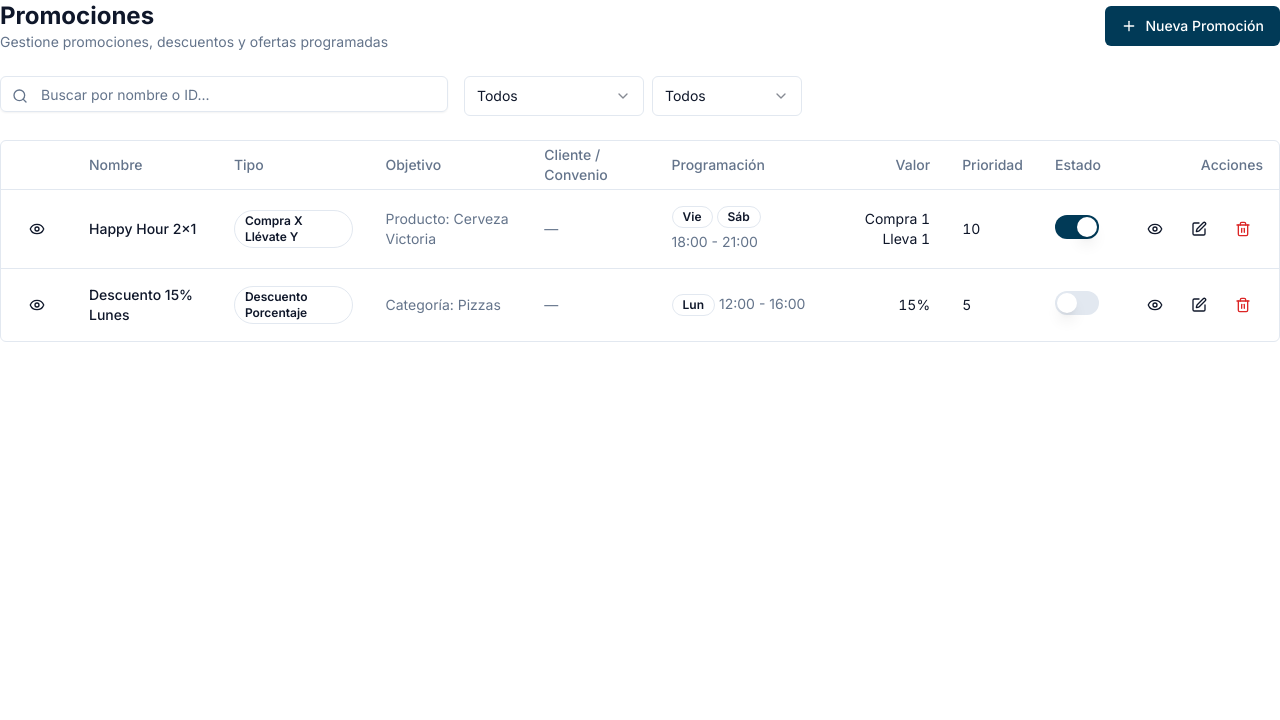
Scenario: PromotionsList › target product display (§17.6) › resolves the product name in the detail dialog too
Click the button named "Ver detalles" in the row of "Happy Hour 2x1": click(1155, 228) [1135,208,1175,248]
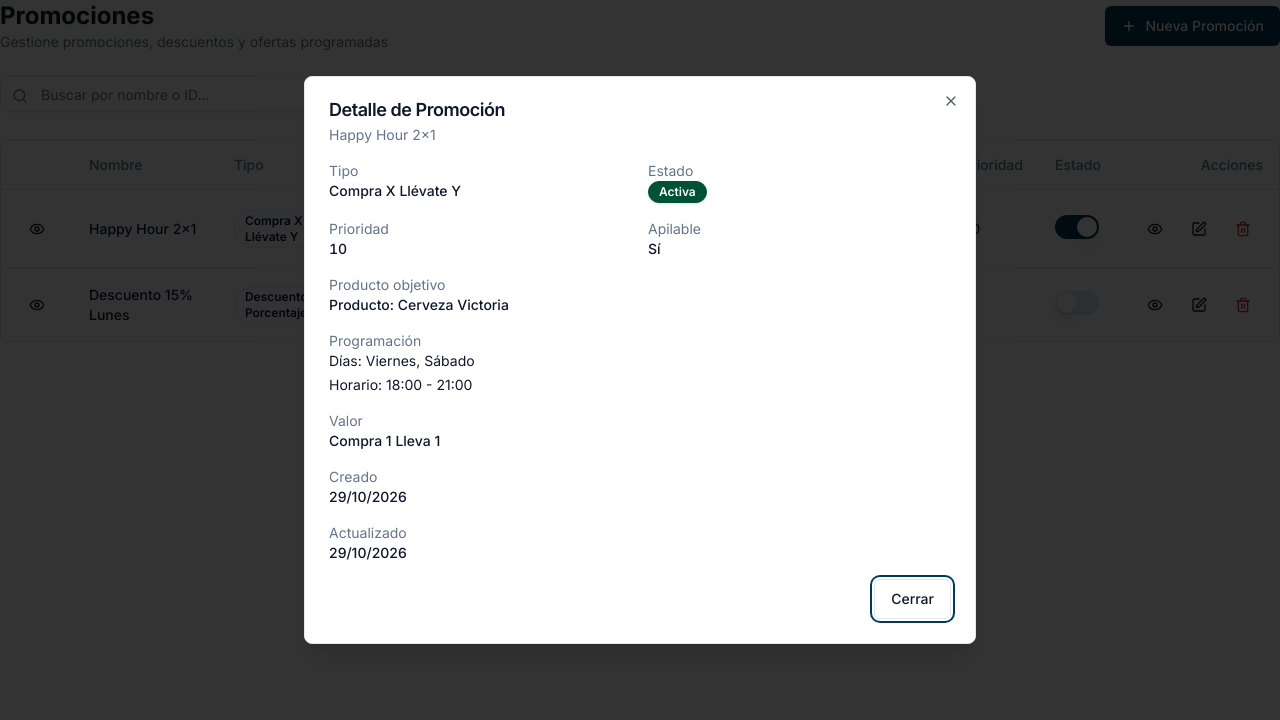
Result: the text "Producto: Cerveza Victoria" is shown at [329,296,509,313]
